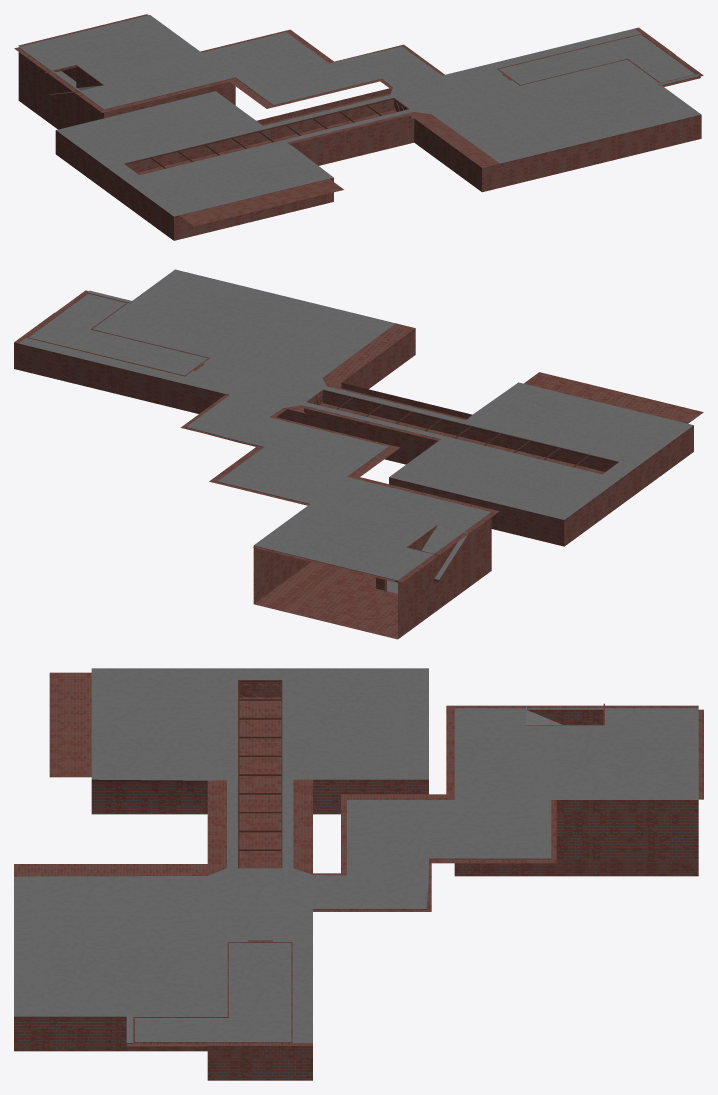
Rendered from Floor.fbx.
The picture shows the model from 3 angles, top to bottom: view 1: azimuth 30°, elevation 25°; view 2: azimuth 150°, elevation 25°; view 3: azimuth 270°, elevation 25°; orthographic projection. The views are drawn at different scales.
Visible parts, largest first — view 1: UndergroundFloorCorridorsAndRooms.001; view 2: UndergroundFloorCorridorsAndRooms.001; view 3: UndergroundFloorCorridorsAndRooms.001.
Boxes of the visible parts, x1,y1,x2,y2 form: UndergroundFloorCorridorsAndRooms.001: (14, 14, 703, 240); UndergroundFloorCorridorsAndRooms.001: (14, 269, 703, 639); UndergroundFloorCorridorsAndRooms.001: (14, 668, 703, 1080).
Size of the model in its own units: 8843 by 841 by 6829.
